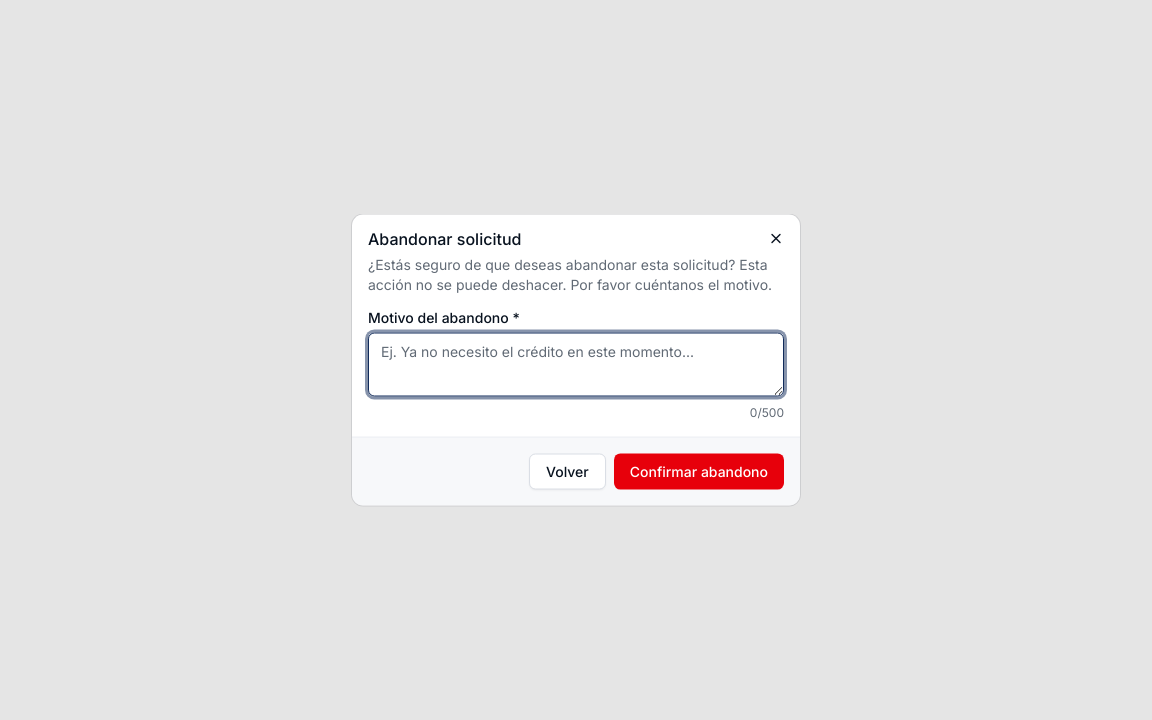
it: AbandonDialog — validación del motivo › limpia el error al escribir después de que apareció
The image size is (1152, 720).
Click the button "Confirmar abandono": (699, 472) [614,454,784,490]
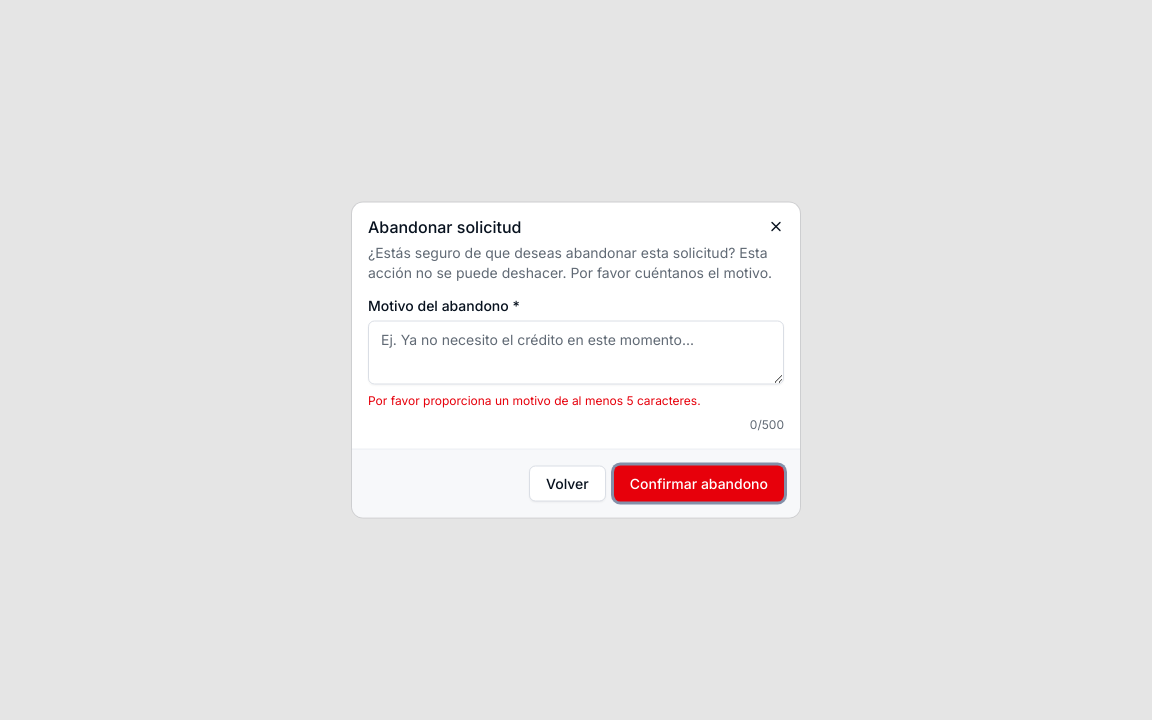
Result: the message "Por favor proporciona un motivo de al menos 5 caracteres." is shown at [368,392,701,408]
In the text box labelled "Motivo del abandono *": (576, 352) [368,320,784,384], type "A"
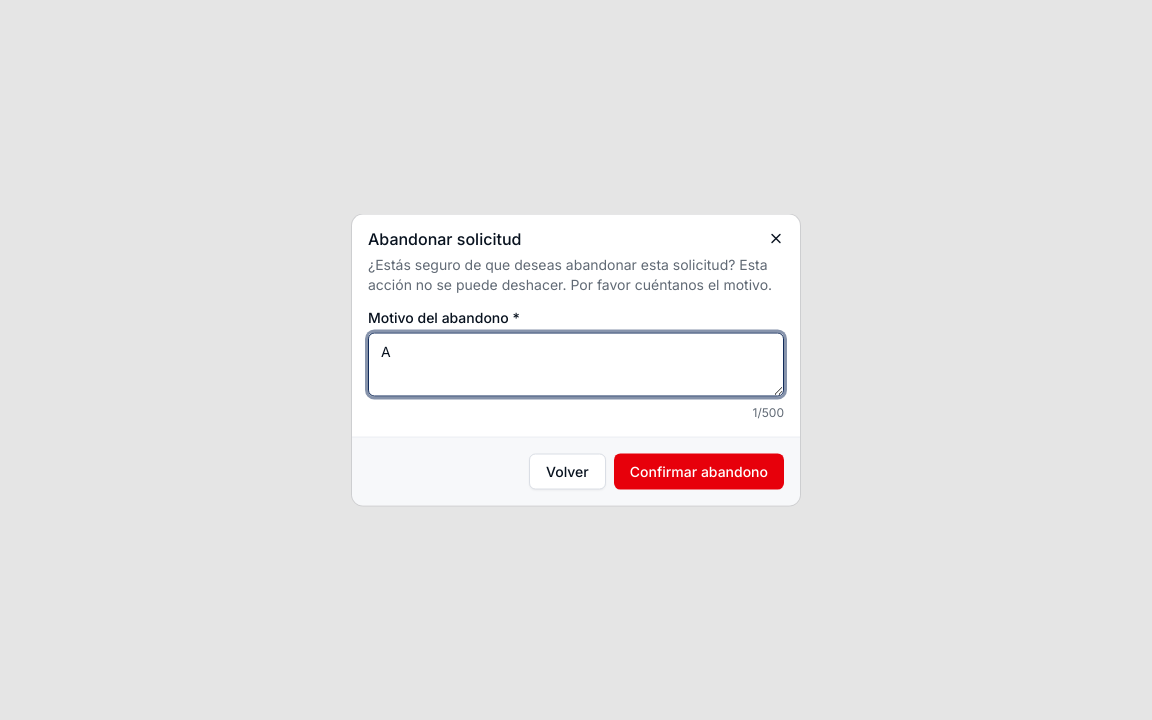
Result: the message "Por favor proporciona un motivo de al menos 5 caracteres." is gone
